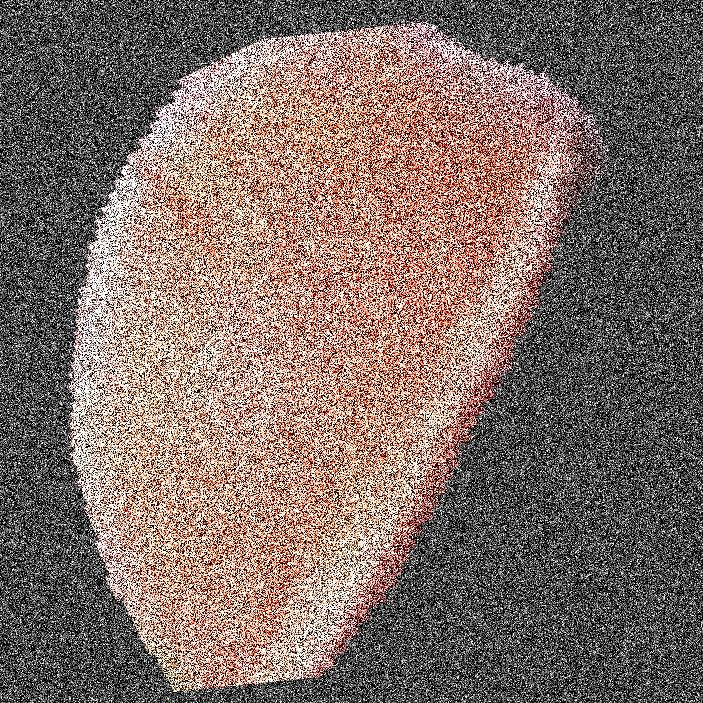Capacete: (86, 0, 458, 702)
